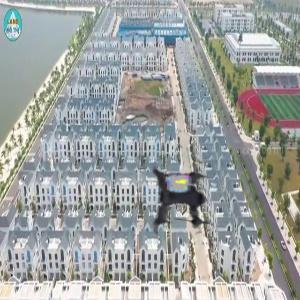drone: (133, 151, 232, 250)
